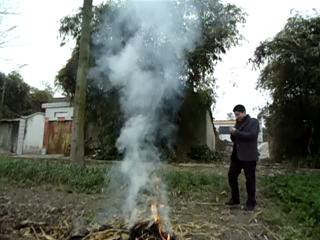yanwu: (96, 1, 172, 219)
